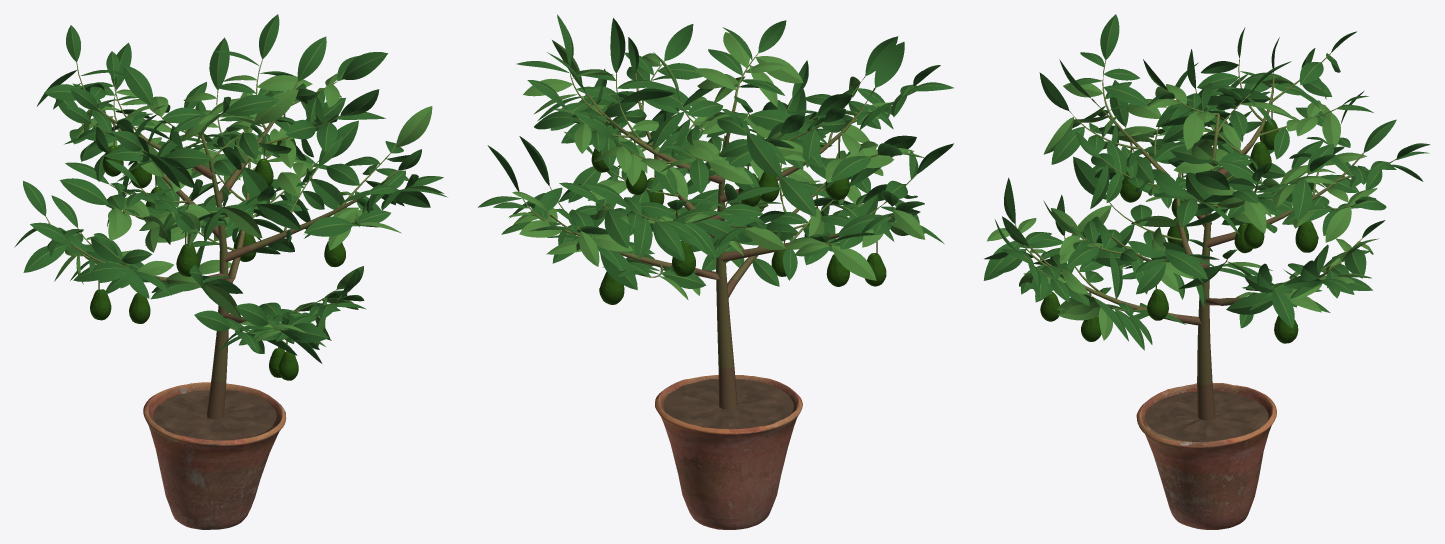
The model's file is gift.glb.
3 views of the same model, side by side, from view 1: azimuth 30°, elevation 25°; view 2: azimuth 150°, elevation 25°; view 3: azimuth 270°, elevation 25° (orthographic). The views are drawn at different scales.
Parts seen in each view (by area): view 1: Глиняный горшок, Ствол и скелетные ветки, Земля, Молодые побеги, Лист авокадо.197, Лист авокадо.389, Лист авокадо.263, Лист авокадо.320, Лист авокадо.055, Лист авокадо.369, Лист авокадо.380, Лист авокадо.185 (+18 smaller); view 2: Глиняный горшок, Ствол и скелетные ветки, Земля, Молодые побеги, Лист авокадо.357, Лист авокадо.041, Лист авокадо.048, Лист авокадо.148, Лист авокадо.225, Лист авокадо.301, Лист авокадо.261, Лист авокадо.390 (+7 smaller); view 3: Глиняный горшок, Ствол и скелетные ветки, Земля, Молодые побеги, Лист авокадо.110, Лист авокадо.196, Лист авокадо.270, Лист авокадо.308, Лист авокадо.283, Лист авокадо.142, Лист авокадо.224, Плод авокадо.008 (+6 smaller).
Part boxes in pixels (box(x1,y1,x2,y2)): Глиняный горшок: box(143, 382, 286, 529); Ствол и скелетные ветки: box(72, 81, 398, 419); Земля: box(153, 390, 276, 440); Молодые побеги: box(46, 59, 405, 334); Лист авокадо.197: box(396, 106, 432, 147); Лист авокадо.389: box(225, 95, 278, 116); Лист авокадо.263: box(60, 178, 108, 204); Лист авокадо.320: box(342, 52, 387, 79); Лист авокадо.055: box(297, 36, 326, 81); Лист авокадо.369: box(255, 89, 298, 124); Лист авокадо.380: box(123, 64, 153, 105); Лист авокадо.185: box(304, 216, 353, 236); Глиняный горшок: box(655, 375, 802, 529); Ствол и скелетные ветки: box(549, 73, 892, 409); Земля: box(663, 379, 793, 429); Молодые побеги: box(522, 53, 916, 277); Лист авокадо.357: box(747, 132, 781, 178); Лист авокадо.041: box(780, 177, 816, 216); Лист авокадо.048: box(874, 42, 904, 87); Лист авокадо.148: box(831, 246, 876, 280); Лист авокадо.225: box(604, 208, 629, 248); Лист авокадо.301: box(610, 18, 625, 73); Лист авокадо.261: box(831, 156, 871, 180); Лист авокадо.390: box(755, 56, 803, 83); Глиняный горшок: box(1136, 383, 1276, 529); Ствол и скелетные ветки: box(1028, 73, 1363, 420); Земля: box(1145, 390, 1268, 442); Молодые побеги: box(1015, 53, 1396, 311); Лист авокадо.110: box(1226, 293, 1272, 314); Лист авокадо.196: box(1165, 252, 1207, 279); Лист авокадо.270: box(1051, 126, 1084, 164); Лист авокадо.308: box(1292, 178, 1312, 220); Лист авокадо.283: box(1100, 14, 1119, 60); Лист авокадо.142: box(1073, 156, 1106, 199); Лист авокадо.224: box(1325, 207, 1351, 242); Плод авокадо.008: box(1295, 221, 1318, 252).
Size of the model in its own units: 1.53 by 1.69 by 1.51.
Materials: 20 (2 with a texture image).
